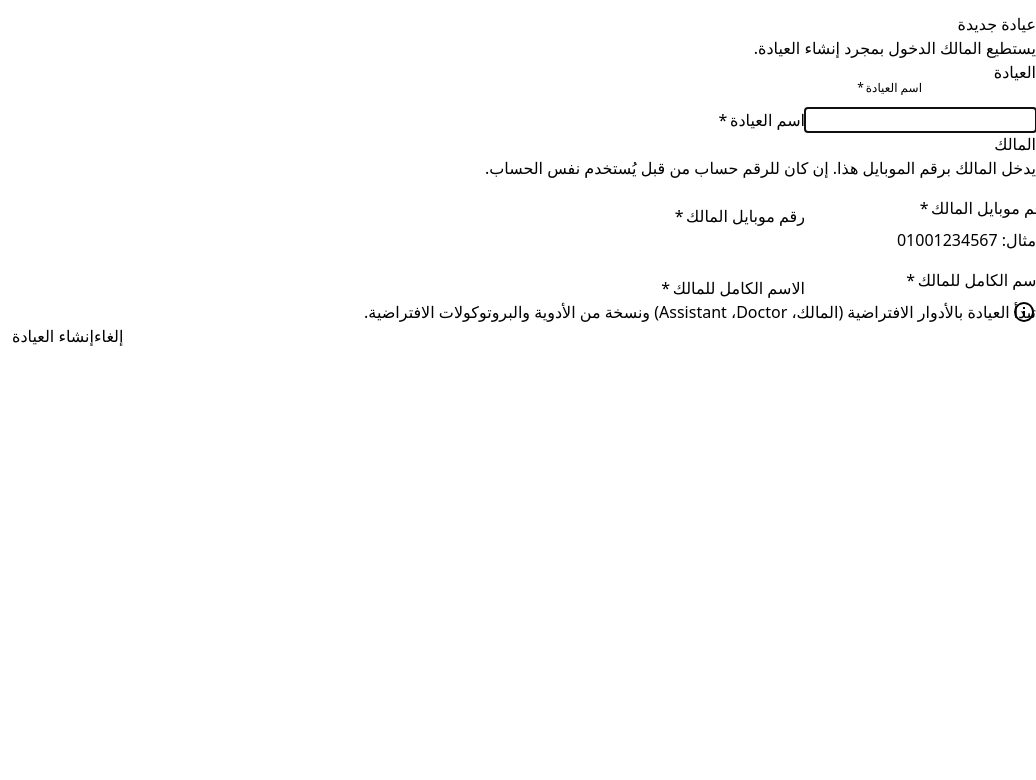
create clinic: validation @area:admin › an error of no field (500): the toast «حدث خطأ ما. حاول مرة أخرى.» and the form keeps its values @ADM-064
The image size is (1036, 780).
Type keys "عيادة النور"
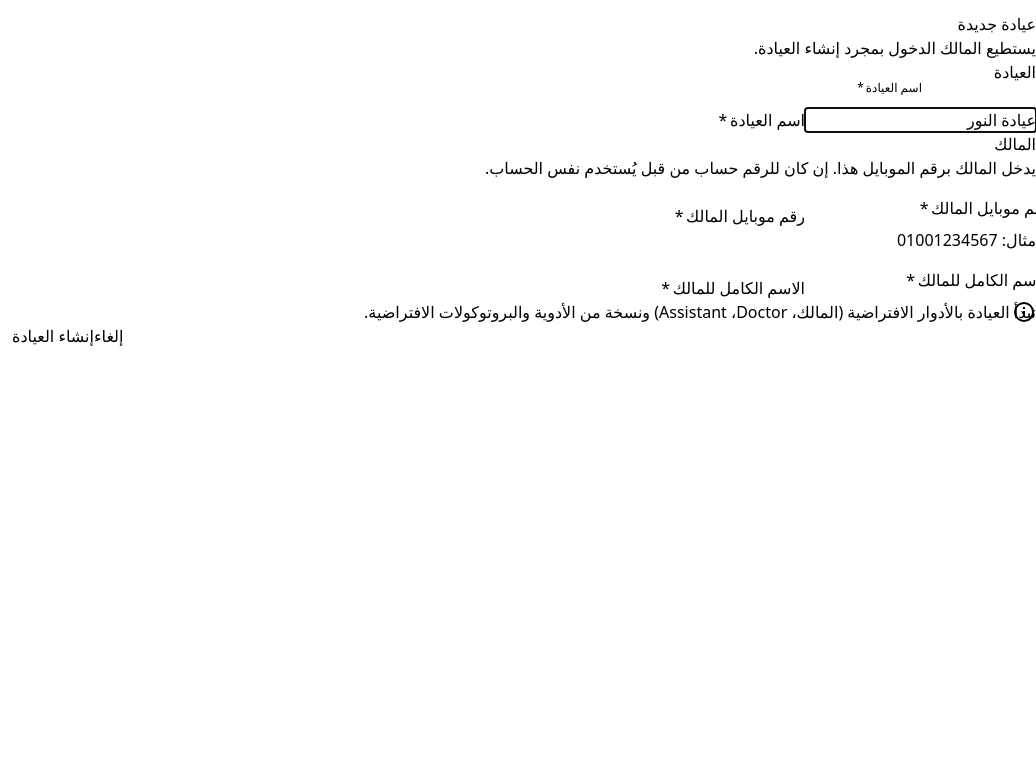
Clear the field labelled "رقم موبايل المالك *" at (920, 216), box [805,204,1035,228]
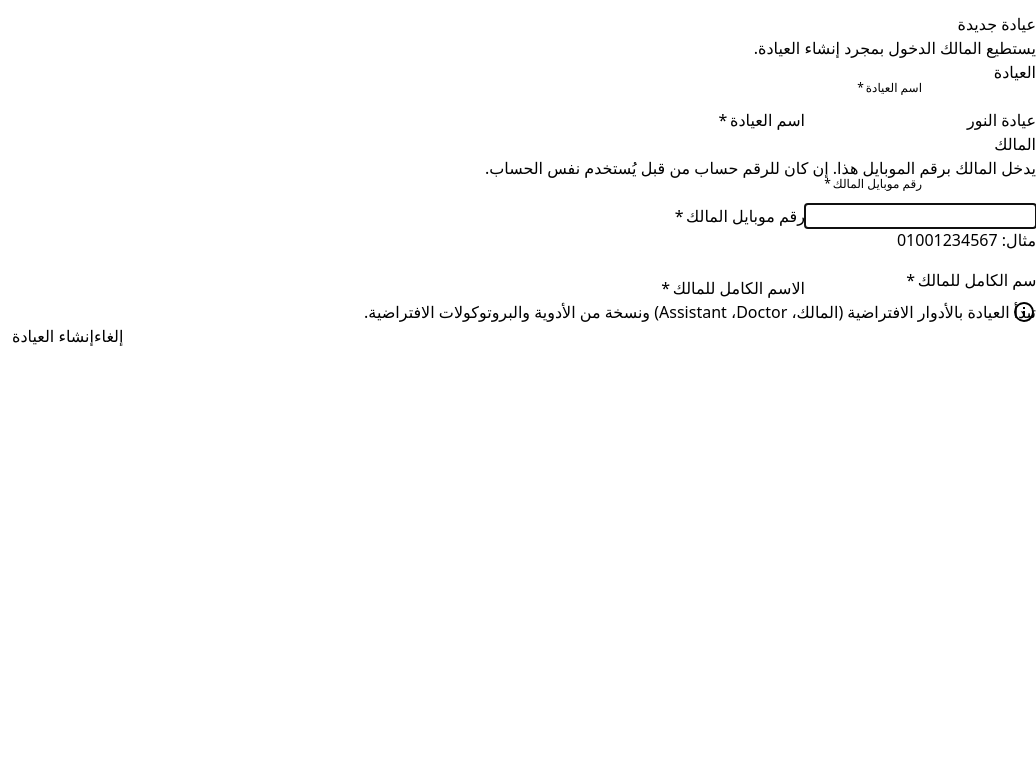
Type keys "01001234567"
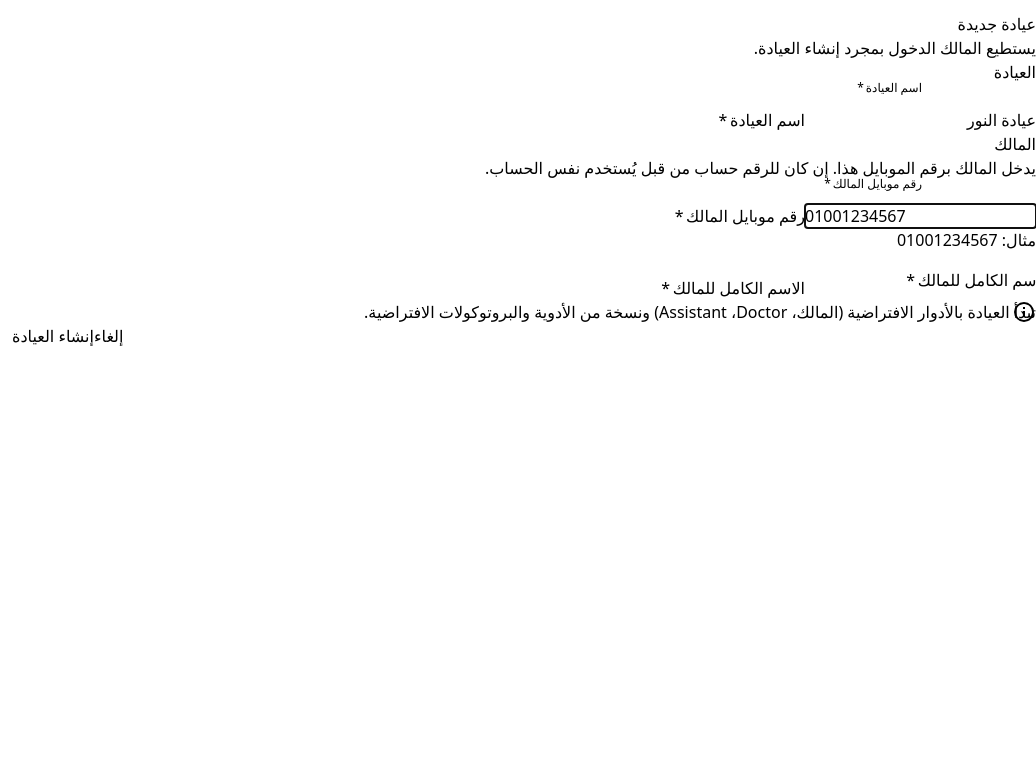
Clear the field labelled "الاسم الكامل للمالك *" at (920, 288), box [805,276,1035,300]
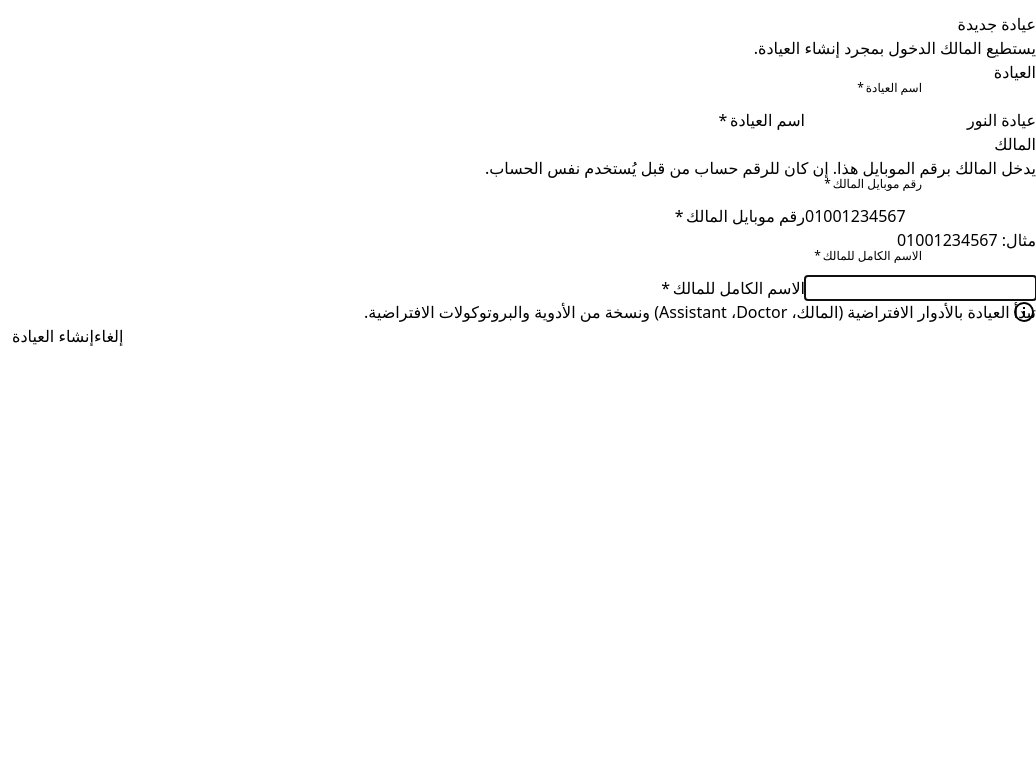
Type keys "د. سارة"
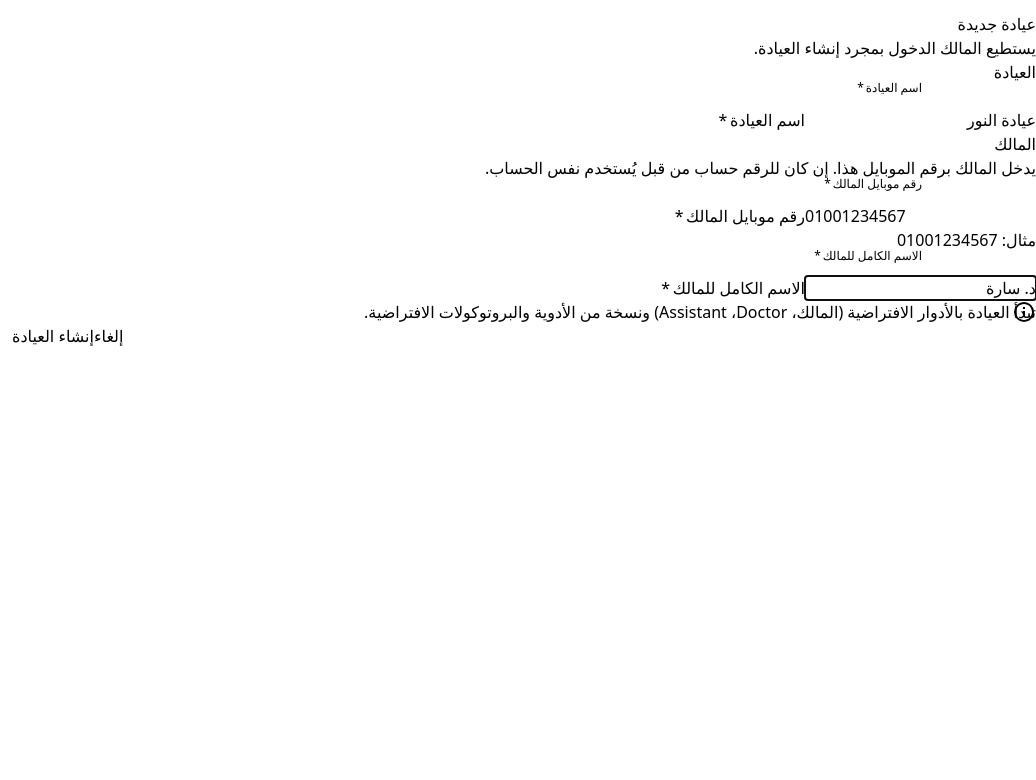
Click the button "إنشاء العيادة" at (53, 336), box [12,324,94,348]
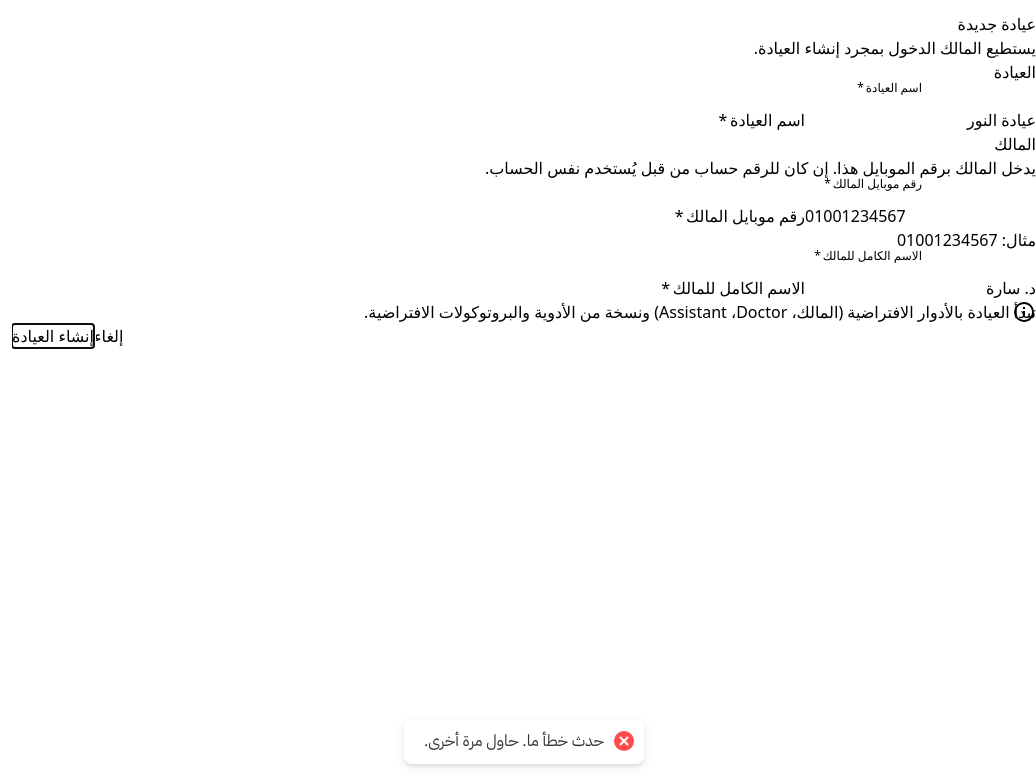
Expected: the field labelled "اسم العيادة *" holds "عيادة النور", [805,108,1035,132]
Expected: the field labelled "رقم موبايل المالك *" holds "01001234567", [805,204,1035,228]
Expected: the message "حدث خطأ ما. حاول مرة أخرى." is shown, [424,731,604,752]
